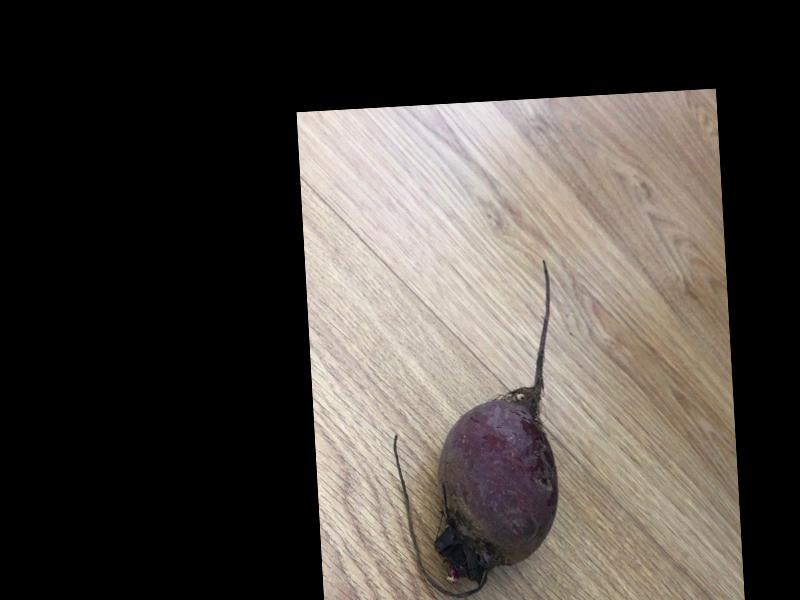Beet: (383, 259, 567, 600)
